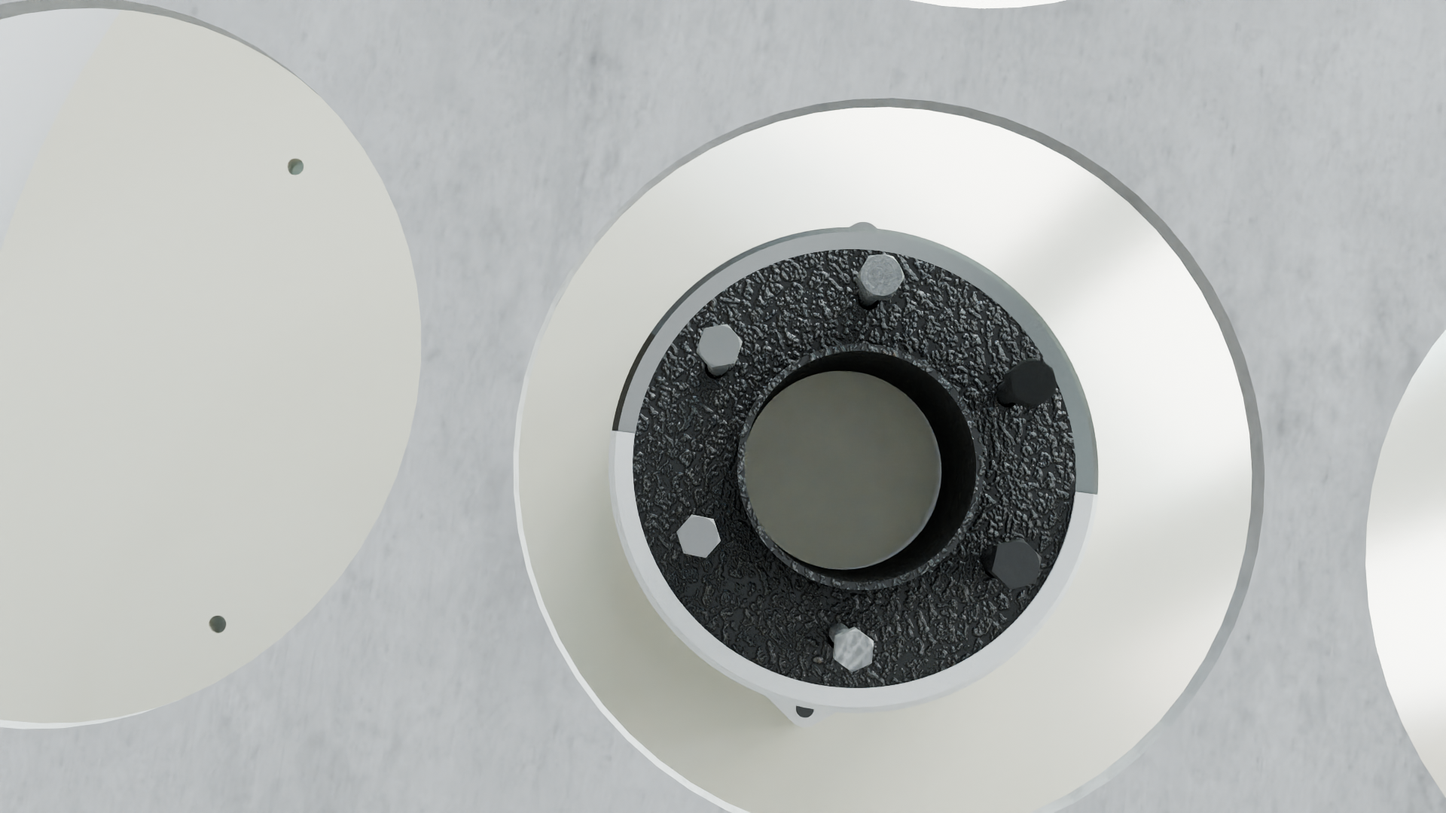bolt: (992, 539, 1042, 589), (1009, 358, 1056, 408), (857, 254, 905, 297), (697, 324, 743, 367), (676, 515, 721, 558), (834, 629, 874, 672)
